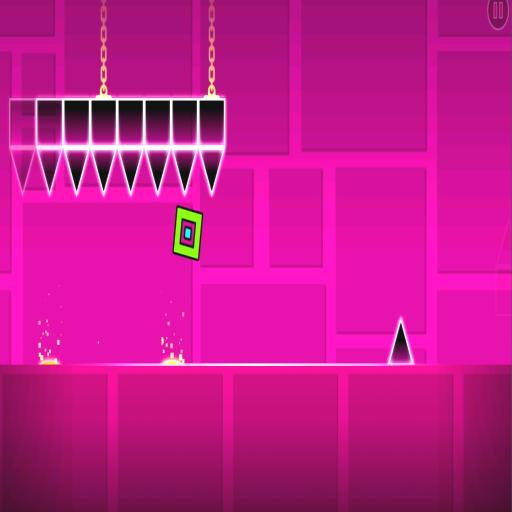block: (8, 97, 226, 154)
player: (173, 206, 202, 260)
spike: (388, 319, 413, 363), (10, 147, 34, 191), (38, 147, 61, 192), (93, 149, 115, 195), (146, 148, 169, 192), (200, 150, 223, 194), (120, 150, 142, 195), (65, 150, 88, 193), (173, 150, 196, 192)
